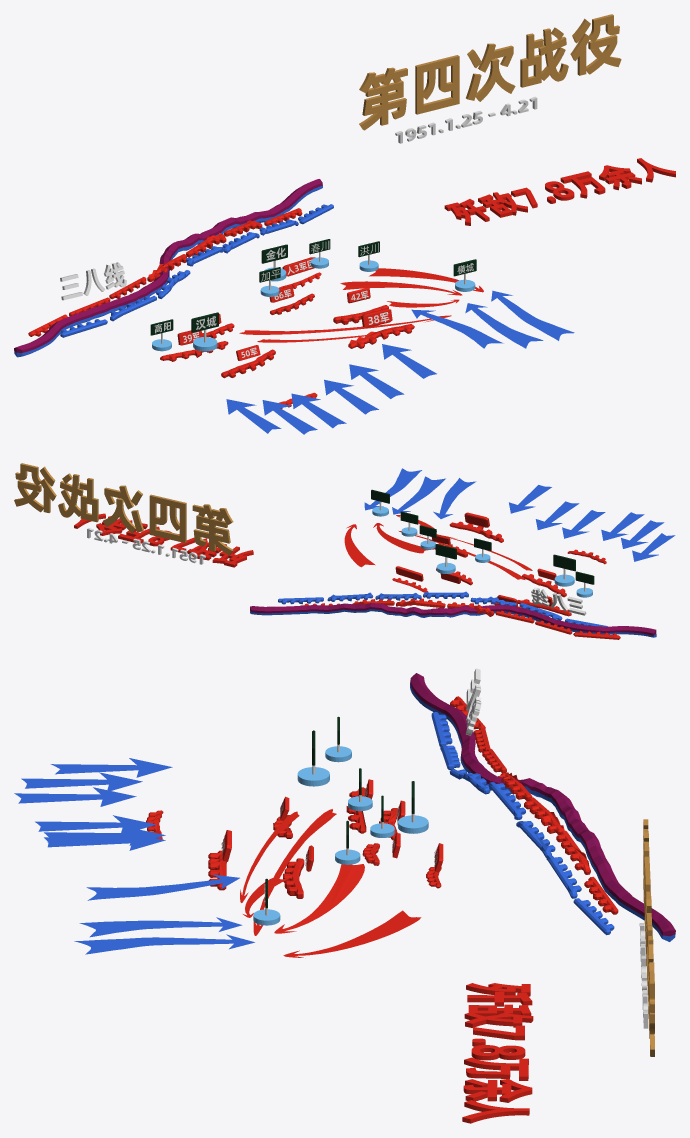
Rendered from 0-4-animate.glb.
3 views of the same model, one above another, from view 1: azimuth 30°, elevation 25°; view 2: azimuth 150°, elevation 25°; view 3: azimuth 270°, elevation 25° (orthographic). The views are drawn at different scales.
Visible parts, largest first — view 1: 文本.020, 38line, 文本.029, 文本.021, 文本.016, 箭头.020, 箭头.019, 柱体.010, 箭头.021, 贝塞尔曲线.091, 贝塞尔曲线.087, 贝塞尔曲线.089; view 2: 文本.020, 38line, 文本.029, 文本.021, 文本.016, 柱体.010, 箭头.019, 箭头.021, 箭头.020, 柱体.020, 贝塞尔曲线.087, 箭头.018 (+14 smaller); view 3: 文本.029, 38line, 文本.020, 箭头.020, 箭头.019, 贝塞尔曲线.089, 箭头.021, 贝塞尔曲线.087, 箭头.018, 箭头.015, 箭头.014, 箭头.012 (+5 smaller).
Boxes of the visible parts, x1,y1,x2,y2 form: 文本.020: (359,14,621,130); 38line: (14,179,322,357); 文本.029: (444,158,675,225); 文本.021: (395,96,537,143); 文本.016: (60,262,126,300); 箭头.020: (491,290,574,340); 箭头.019: (465,303,543,348); 柱体.010: (191,312,218,351); 箭头.021: (411,309,503,348); 贝塞尔曲线.091: (239,315,451,334); 贝塞尔曲线.087: (369,268,483,292); 贝塞尔曲线.089: (340,281,462,295); 文本.020: (14,463,233,555); 38line: (250,603,656,637); 文本.029: (74,510,253,567); 文本.021: (87,528,205,564); 文本.016: (531,587,586,615); 柱体.010: (553,554,575,586); 箭头.019: (392,476,445,514); 箭头.021: (433,478,476,518); 箭头.020: (364,468,421,510); 柱体.020: (435,544,456,573); 贝塞尔曲线.087: (344,524,375,567); 箭头.018: (509,485,551,513); 文本.029: (462,983,533,1123); 38line: (410,673,675,941); 文本.020: (643,819,654,1056); 箭头.020: (74,934,254,954); 箭头.019: (79,917,242,937); 贝塞尔曲线.089: (274,864,364,933); 箭头.021: (86,874,239,900); 贝塞尔曲线.087: (283,910,421,957); 箭头.018: (44,831,165,850); 箭头.015: (14,787,136,806); 箭头.014: (21,772,142,790); 箭头.012: (50,758,172,777).
Size of what is drawn, in the model's own units: 52.5 by 9.96 by 32.69.
